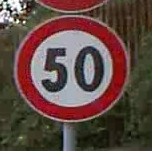limite 50: (9, 13, 131, 123)
